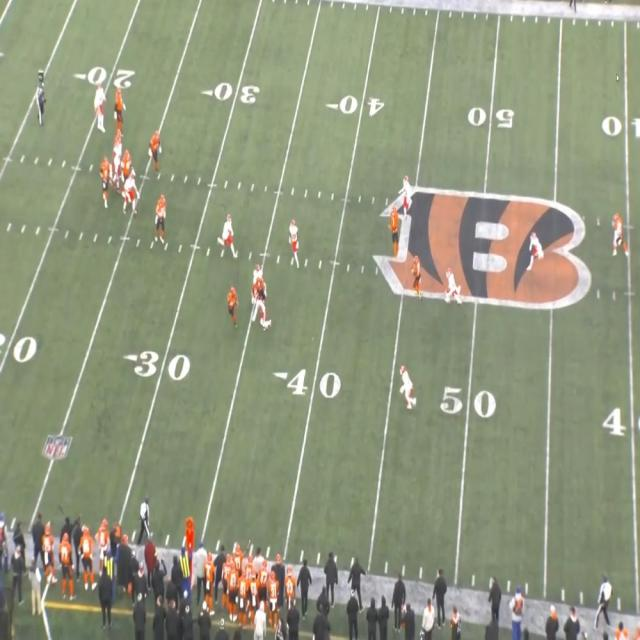db: (402, 366, 416, 412), (444, 268, 459, 307), (402, 177, 416, 217), (527, 230, 539, 274)
lb: (253, 262, 266, 294), (291, 221, 299, 272)
qb: (102, 157, 110, 192)
skill: (613, 213, 625, 255), (225, 288, 238, 324), (390, 208, 400, 248), (412, 254, 422, 294), (255, 280, 265, 313)
